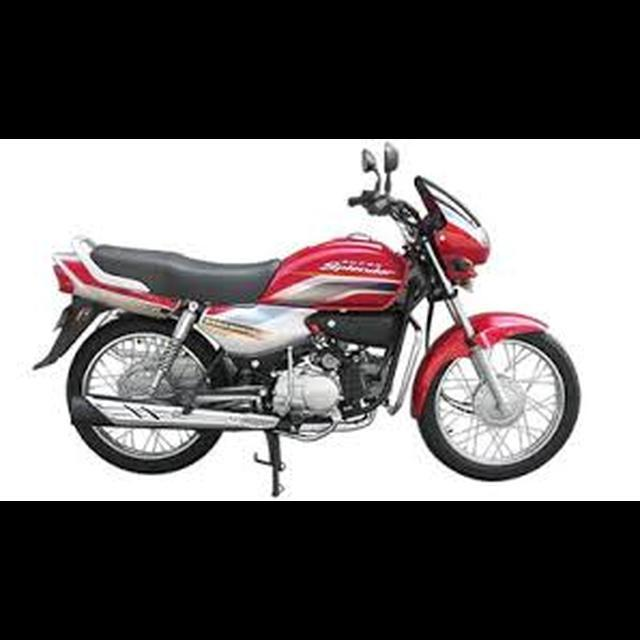motorcycle: (31, 135, 585, 497)
